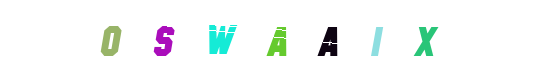A: (233, 0, 313, 80), (281, 0, 361, 80)
I: (289, 0, 369, 80)
O: (124, 0, 204, 80)
S: (154, 0, 234, 80)
W: (180, 0, 260, 80)
X: (386, 0, 466, 80)
